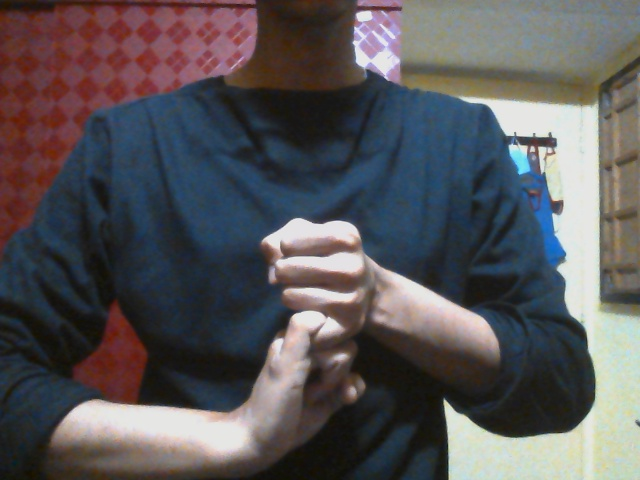S: (236, 204, 405, 470)
